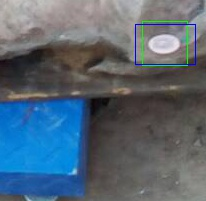text: (142, 21, 187, 65)
